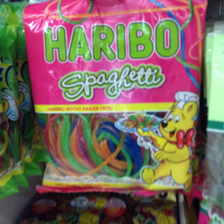candy: (23, 3, 204, 195)
